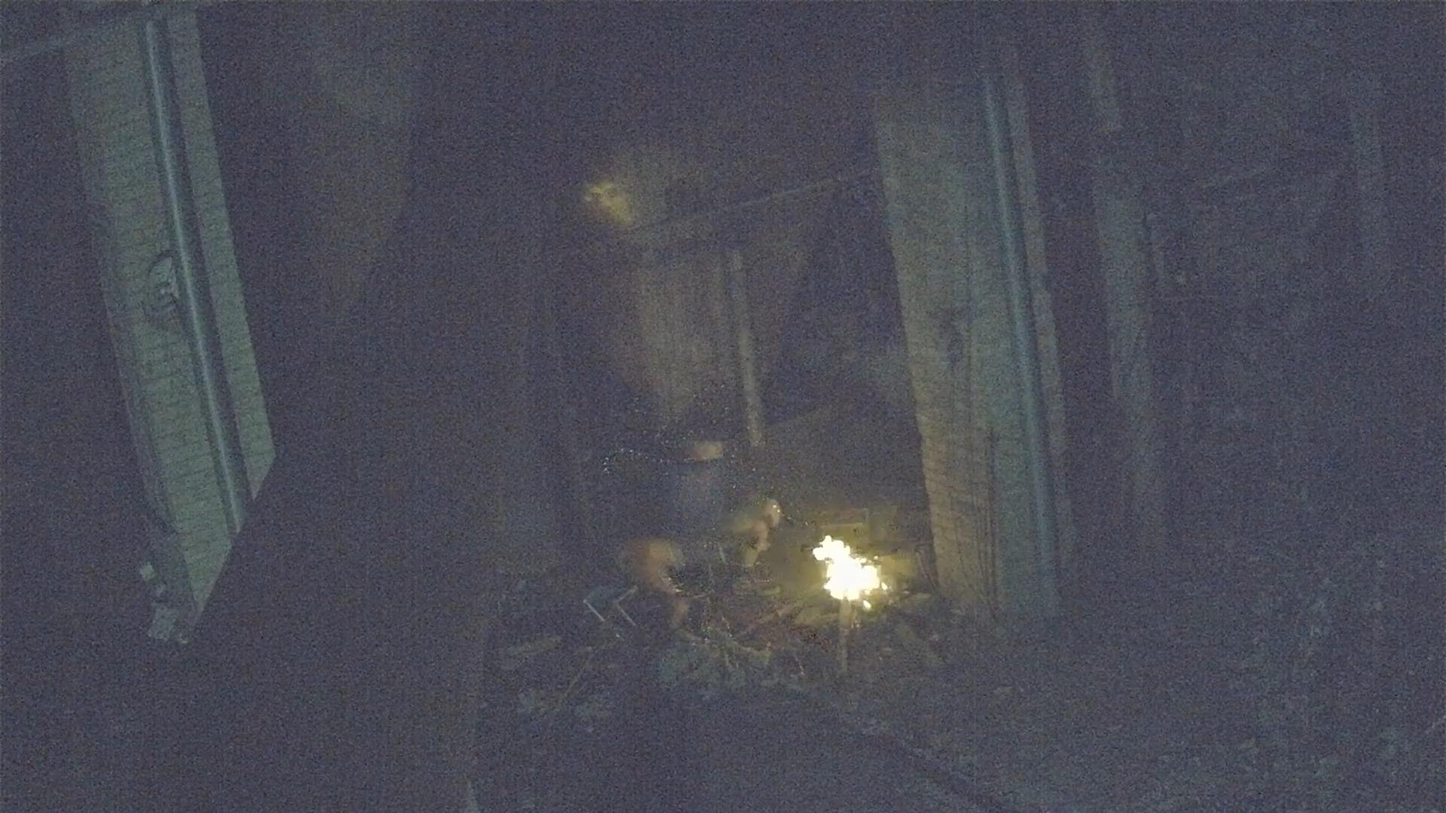fire: (813, 535, 883, 607)
